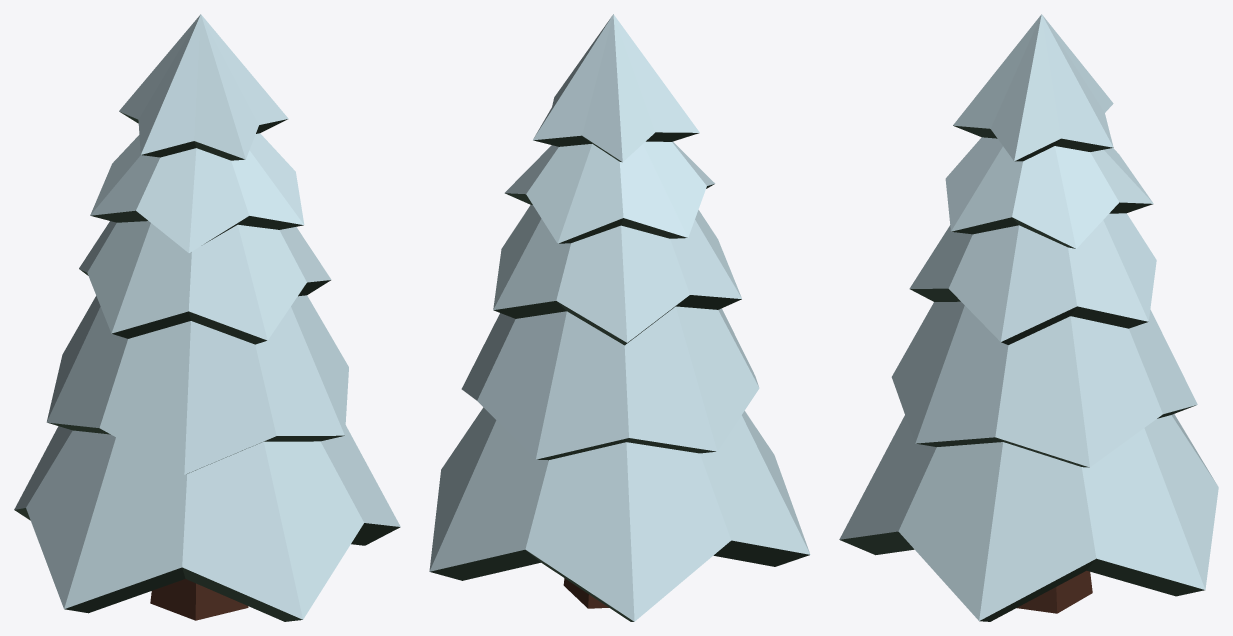
File: treeBigWhite.glb
3 views of the same model, side by side, from view 1: azimuth 30°, elevation 25°; view 2: azimuth 150°, elevation 25°; view 3: azimuth 270°, elevation 25° (orthographic).
Parts seen in each view (by area): view 1: TreeBigWhite; view 2: TreeBigWhite; view 3: TreeBigWhite.
Part boxes in pixels (<box>): TreeBigWhite: <box>14,14,400,621</box>; TreeBigWhite: <box>429,14,810,621</box>; TreeBigWhite: <box>839,14,1218,621</box>.
Size of what is drawn, in the model's own units: 2.61 by 4.33 by 2.57.
Materials: 1 (1 with a texture image).
